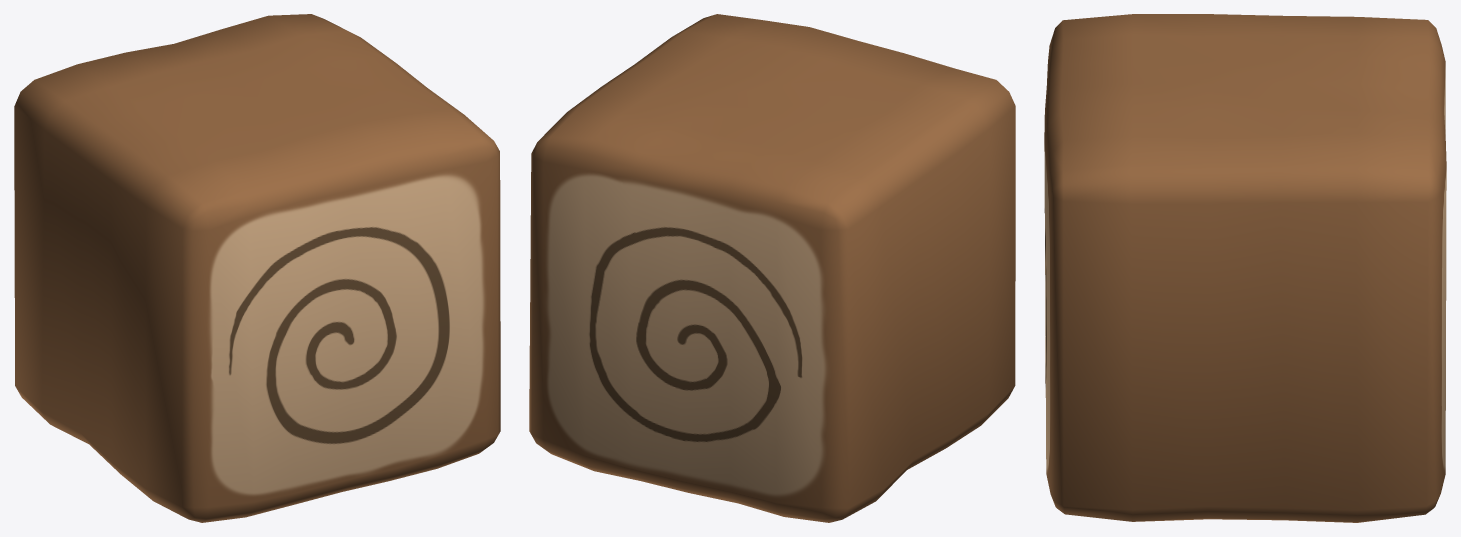
Rendered from Wood1X1_NEW.fbx.
The picture shows the model from 3 angles, left to right: view 1: azimuth 30°, elevation 25°; view 2: azimuth 150°, elevation 25°; view 3: azimuth 270°, elevation 25°; orthographic projection. The views are drawn at different scales.
Parts seen in each view (by area): view 1: WOOD_1X1_LOW; view 2: WOOD_1X1_LOW; view 3: WOOD_1X1_LOW.
Part boxes in pixels (x1=…): WOOD_1X1_LOW: x1=14, y1=14, x2=500, y2=522; WOOD_1X1_LOW: x1=529, y1=14, x2=1015, y2=522; WOOD_1X1_LOW: x1=1044, y1=14, x2=1446, y2=522.
Bounding box in the file's own units: 1.03 × 1.02 × 1.01.
Materials: 1 (1 with a texture image).
